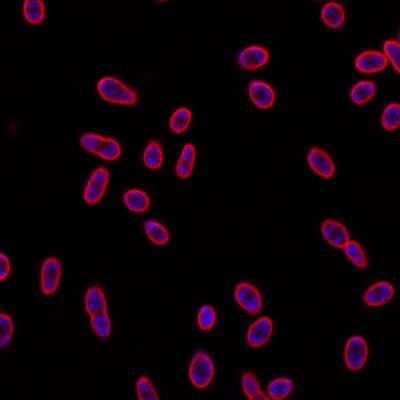Mecillinam: (320, 218, 367, 269), (83, 284, 112, 340), (96, 74, 138, 105), (81, 166, 110, 205), (233, 282, 263, 314), (343, 334, 368, 372), (245, 315, 273, 348), (361, 281, 395, 308), (306, 147, 335, 178), (39, 256, 62, 295), (354, 49, 389, 74), (174, 143, 196, 179), (320, 1, 346, 29), (349, 80, 375, 107), (122, 188, 149, 214), (168, 105, 192, 134), (141, 138, 163, 169)
Oblique: (78, 130, 121, 161), (189, 350, 214, 389), (247, 79, 278, 110), (236, 44, 269, 71), (143, 219, 170, 245), (196, 302, 219, 331)
